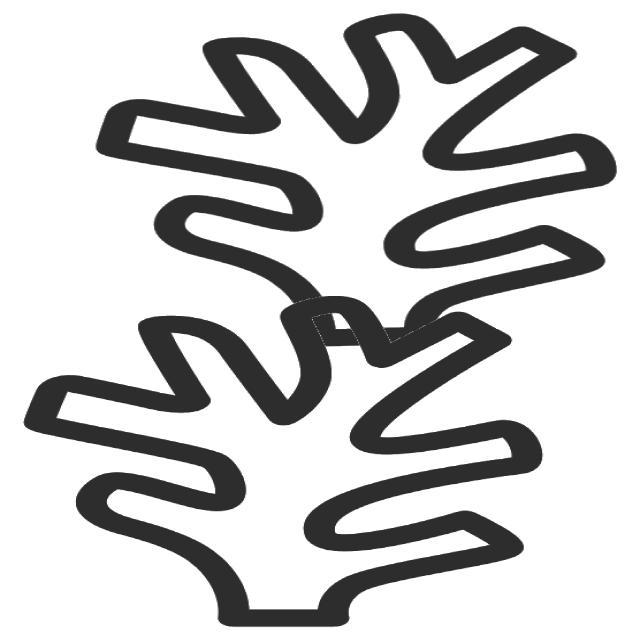coral: (73, 7, 627, 355), (10, 291, 565, 626)
